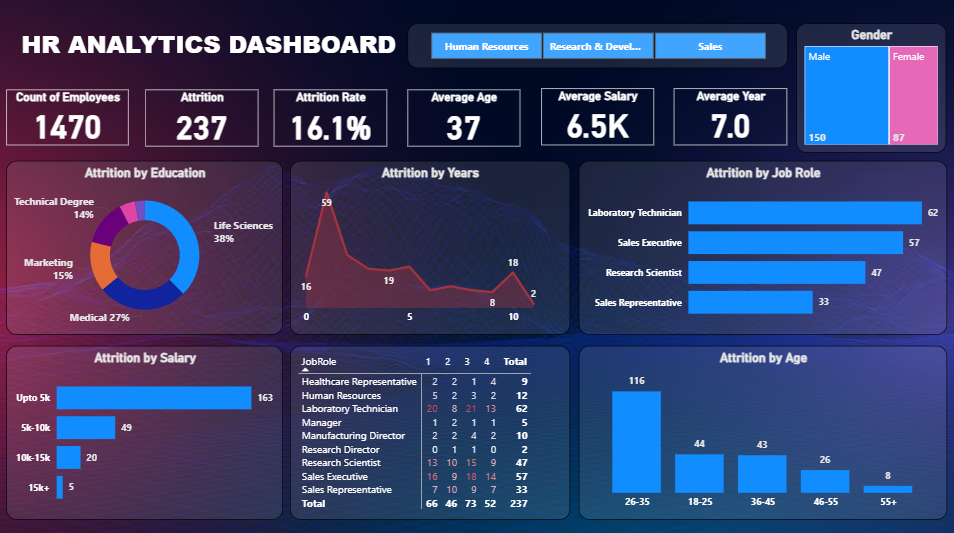

The page's visual inventory and layout, read from the dashboard file:
{"tool":"powerbi","page":{"name":"Page 1","canvas":[1280,720],"ordinal":0},"visuals":[{"type":"card","title":"Count of Employees","fields":{"Values":["CountNonNull(HR_Analytics.EmpID)"]},"box":[15.1,123.5,163.3,74.1],"z":0},{"type":"card","title":"Attrition","fields":{"Values":["Sum(HR_Analytics.AttritionCount)"]},"box":[200,122.9,151.4,75.7],"z":1000},{"type":"card","title":"Attrition Rate","fields":{"Values":["HR_Analytics.AttritionRate"]},"box":[371.4,122.9,151.4,75.7],"z":2000},{"type":"card","title":"Average Age","fields":{"Values":["Avg(HR_Analytics.Age)"]},"box":[550,122.9,150,75.7],"z":3000},{"type":"card","title":"Average Salary","fields":{"Values":["Avg(HR_Analytics.MonthlyIncome)"]},"box":[728.6,121.4,150,75.7],"z":4000},{"type":"card","title":"Average Year","fields":{"Values":["Avg(HR_Analytics.YearsAtCompany)"]},"box":[905.7,121.4,151.4,75.7],"z":5000},{"type":"donutChart","title":"Attrition  by Education","fields":{"Category":["HR_Analytics.EducationField"],"Y":["Sum(HR_Analytics.AttritionCount)"]},"box":[15.1,218.2,369.1,231.9],"z":6000},{"type":"columnChart","title":"Attrition  by Age","fields":{"Category":["HR_Analytics.AgeGroup"],"Y":["Sum(HR_Analytics.AttritionCount)"]},"box":[778,465.2,491.3,231.9],"z":7000},{"type":"pivotTable","fields":{"Rows":["HR_Analytics.JobRole"],"Columns":["HR_Analytics.JobSatisfaction"],"Values":["Sum(HR_Analytics.AttritionCount)"]},"box":[393.8,465.2,373.2,231.9],"z":8000},{"type":"barChart","title":"Attrition by Salary","fields":{"Category":["HR_Analytics.SalarySlab"],"Y":["Sum(HR_Analytics.AttritionCount)"]},"box":[15.1,465.2,369.1,231.9],"z":9000},{"type":"barChart","title":"Attrition by Job Role","fields":{"Y":["Sum(HR_Analytics.AttritionCount)"],"Category":["HR_Analytics.JobRole"]},"box":[778,218.2,491.3,231.9],"z":10000},{"type":"areaChart","title":"Attrition  by Years","fields":{"Y":["Sum(HR_Analytics.AttritionCount)"],"Category":["HR_Analytics.YearsAtCompany"]},"box":[393.8,218.2,373.2,231.9],"z":11000},{"type":"treemap","title":"Gender","fields":{"Values":["Sum(HR_Analytics.AttritionCount)"],"Group":["HR_Analytics.Gender"]},"box":[1068.6,35.7,200,172.9],"z":12000},{"type":"slicer","fields":{"Values":["HR_Analytics.Department"]},"box":[550,35.7,507.1,60],"z":13000},{"type":"textbox","box":[30,35.7,538.6,60],"z":14000}]}

Visuals, with their boxes in screenshot pixels (x1, y1, x2, y2), scaled from the page's 1280x720 canvas onto the 954x533 screenshot:
"Count of Employees" card: (x1=11, y1=91, x2=133, y2=146)
"Attrition" card: (x1=149, y1=91, x2=262, y2=147)
"Attrition Rate" card: (x1=277, y1=91, x2=390, y2=147)
"Average Age" card: (x1=410, y1=91, x2=522, y2=147)
"Average Salary" card: (x1=543, y1=90, x2=655, y2=146)
"Average Year" card: (x1=675, y1=90, x2=788, y2=146)
"Attrition  by Education" donutChart: (x1=11, y1=162, x2=286, y2=333)
"Attrition  by Age" columnChart: (x1=580, y1=344, x2=946, y2=516)
pivotTable - HR_Analytics.JobRole x HR_Analytics.JobSatisfaction: (x1=294, y1=344, x2=572, y2=516)
"Attrition by Salary" barChart: (x1=11, y1=344, x2=286, y2=516)
"Attrition by Job Role" barChart: (x1=580, y1=162, x2=946, y2=333)
"Attrition  by Years" areaChart: (x1=294, y1=162, x2=572, y2=333)
"Gender" treemap: (x1=796, y1=26, x2=946, y2=154)
slicer - HR_Analytics.Department: (x1=410, y1=26, x2=788, y2=71)
textbox: (x1=22, y1=26, x2=424, y2=71)
